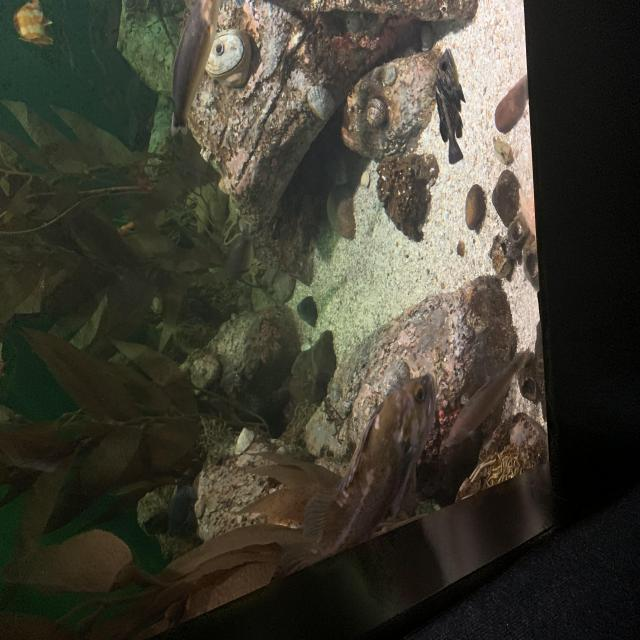fish: (282, 367, 440, 584), (167, 0, 226, 141), (430, 45, 470, 166), (14, 0, 54, 48)
